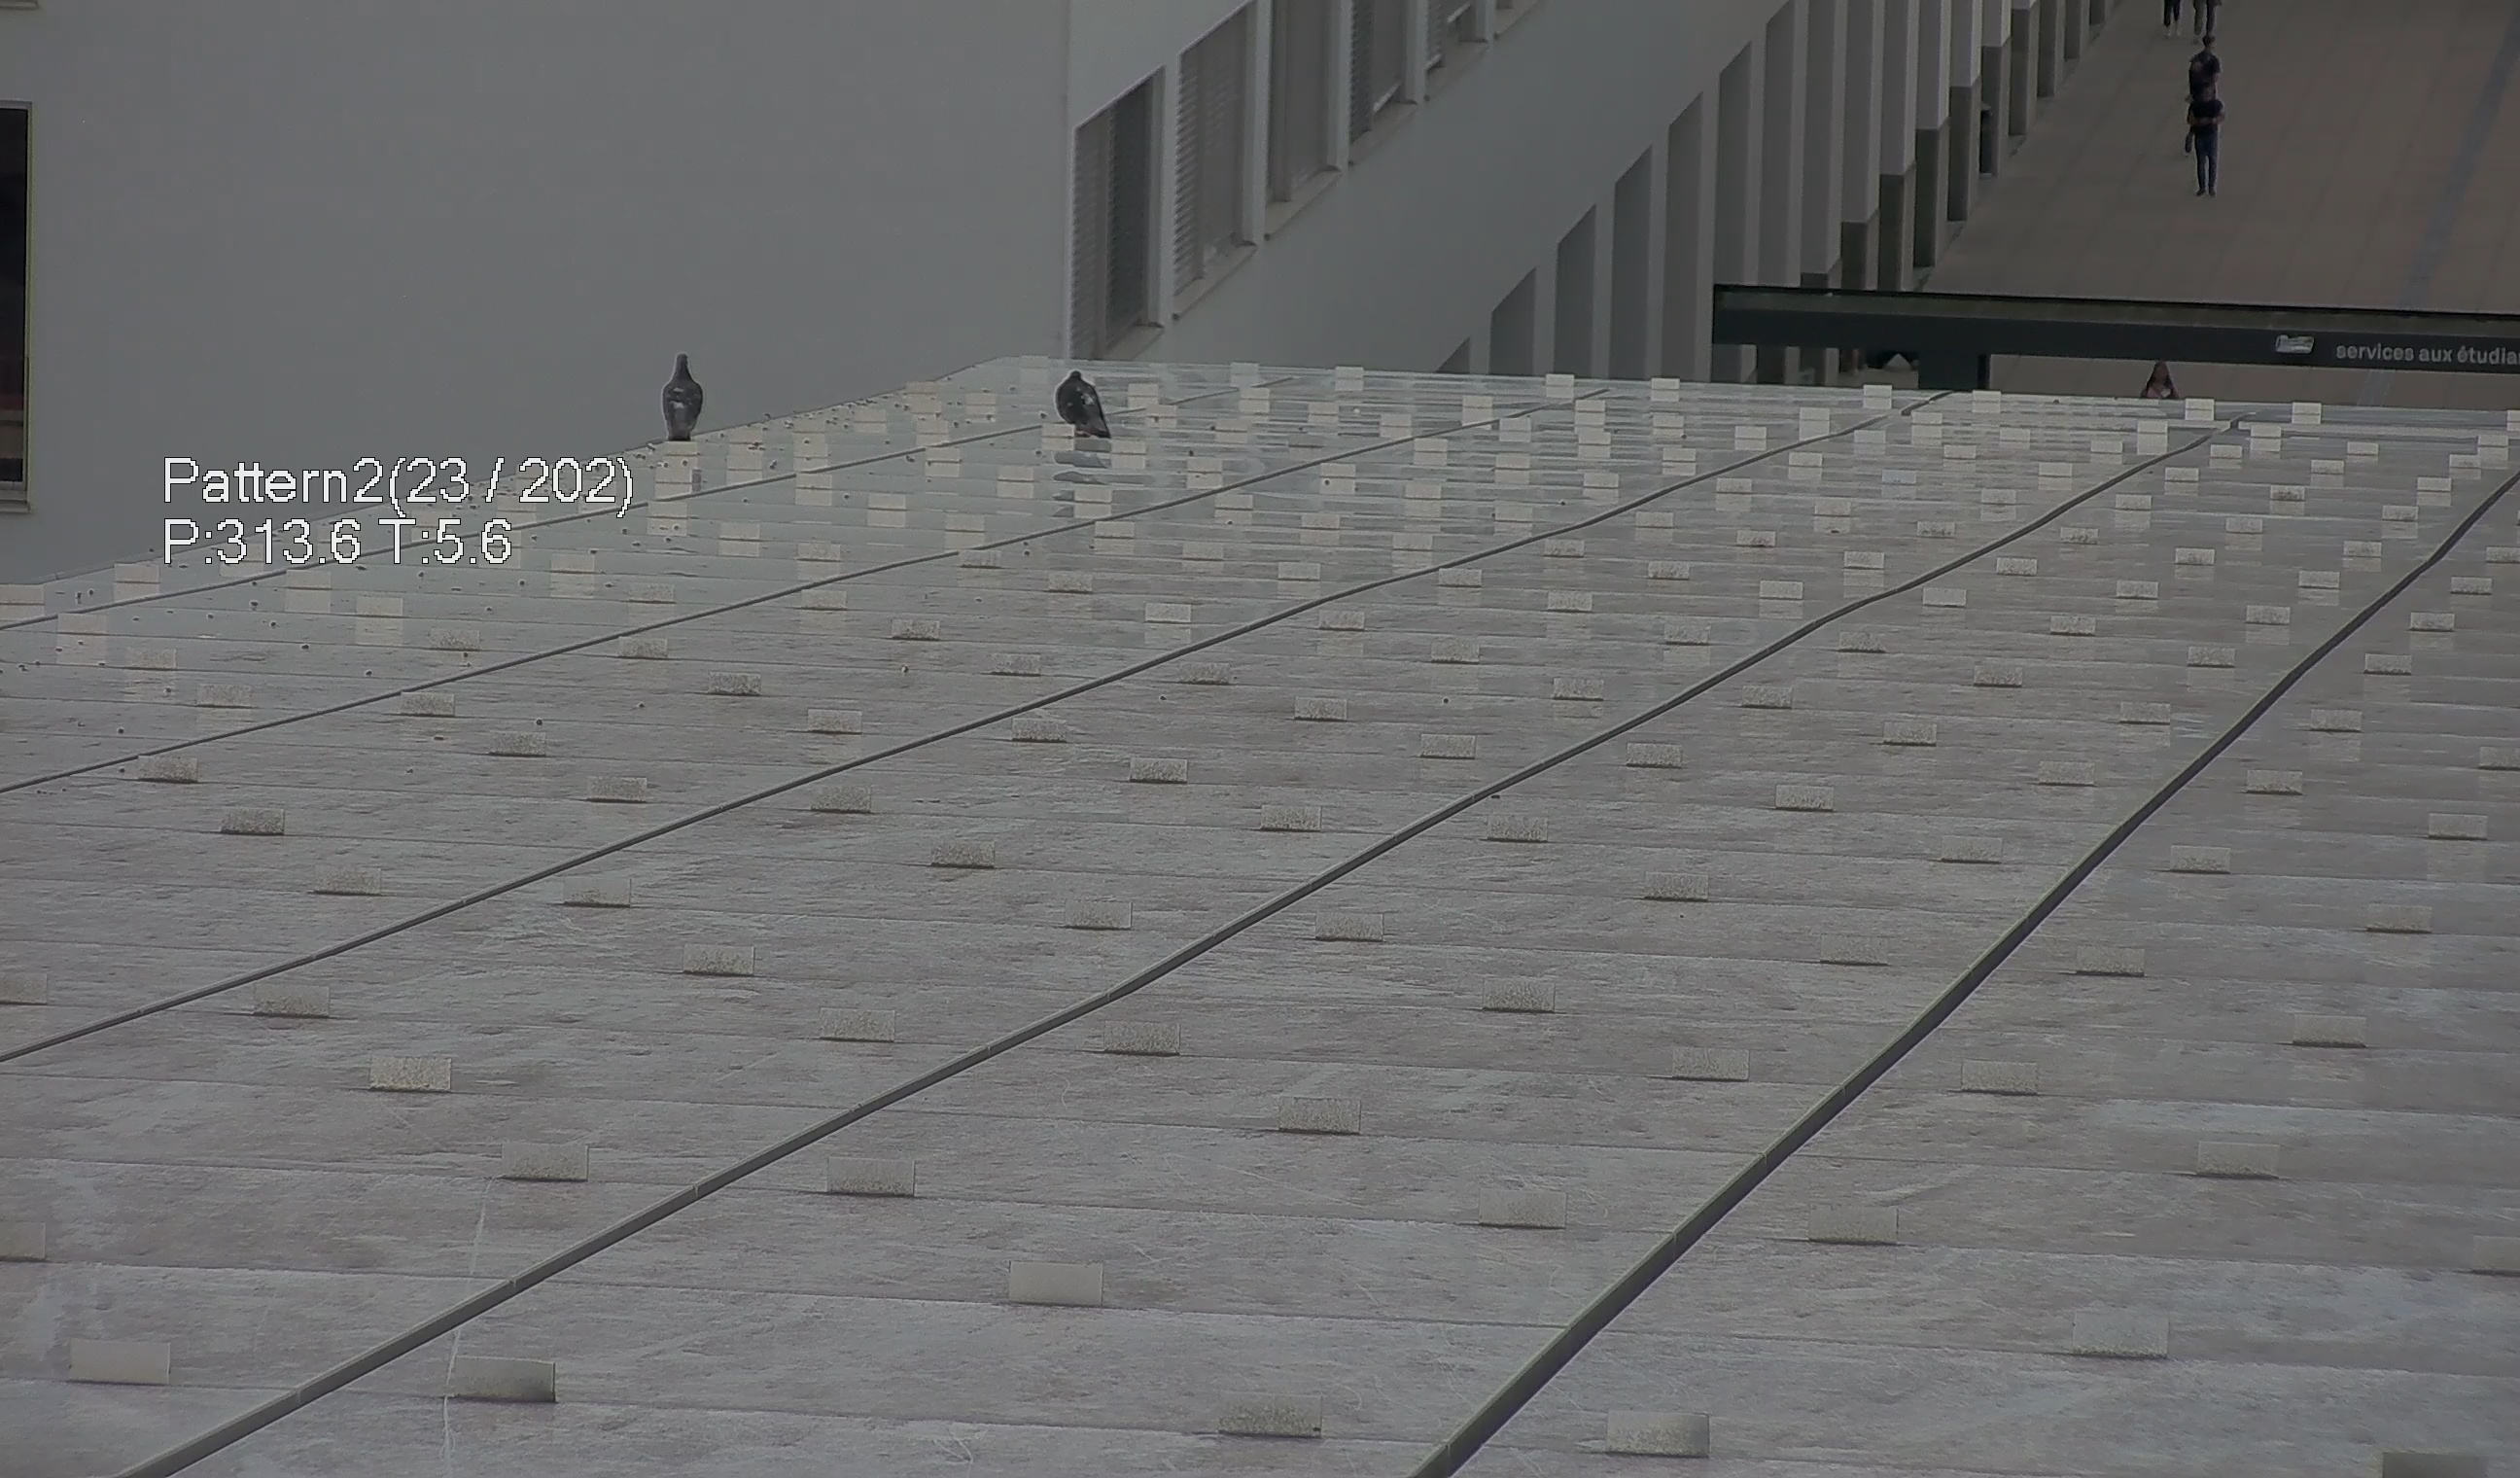Pigeon: (659, 343, 710, 461), (1046, 359, 1104, 438)
